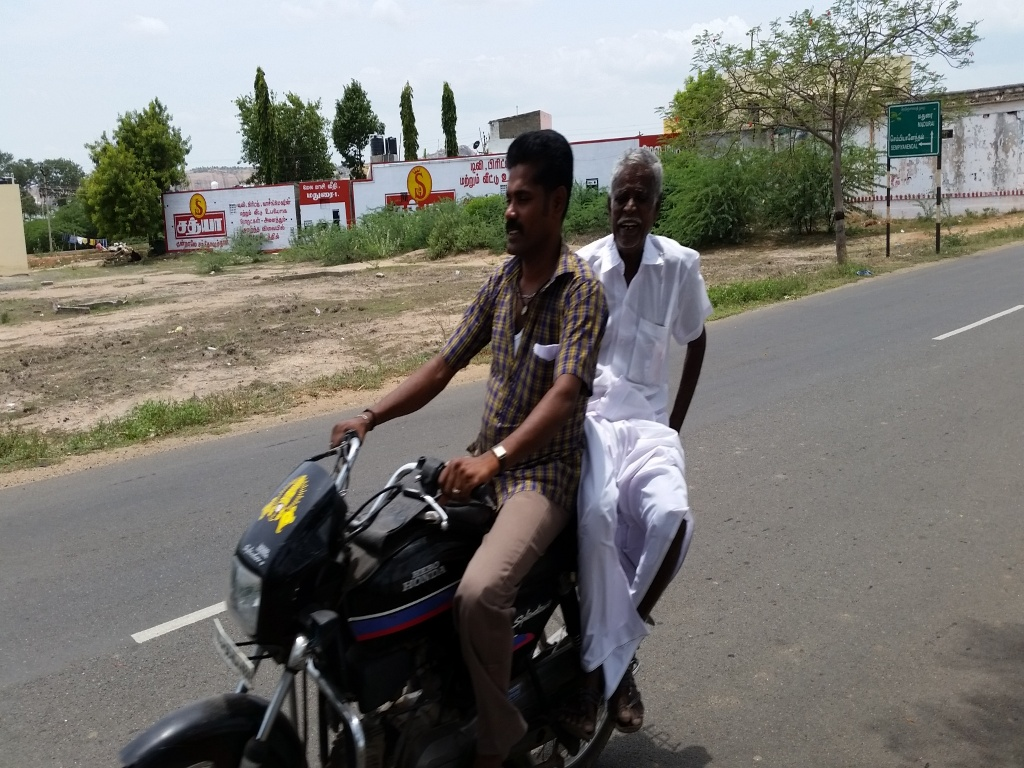biker: (64, 77, 751, 768)
nohelmet: (489, 104, 590, 277), (601, 132, 677, 265)
